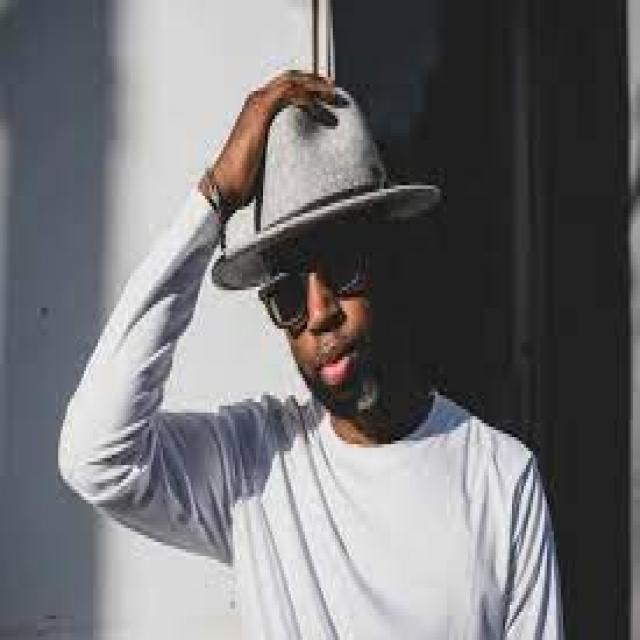hat: (216, 54, 461, 302)
